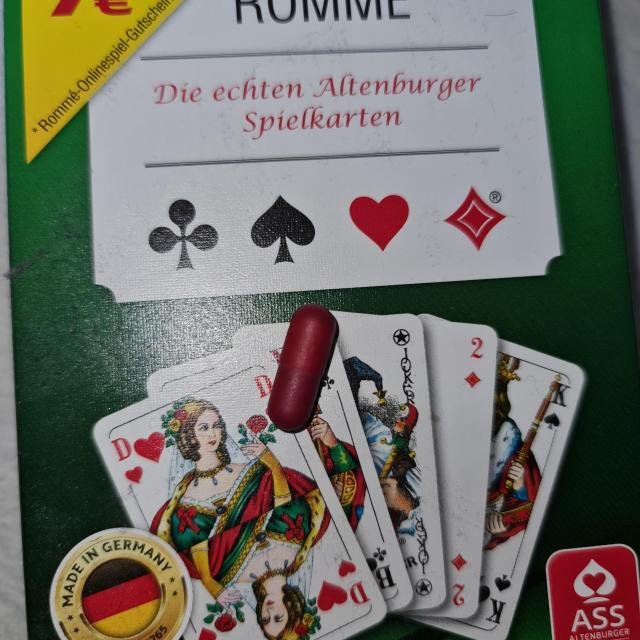pill: (264, 306, 340, 434)
